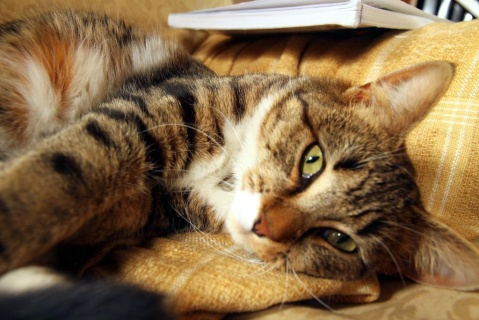Cat: (0, 1, 479, 319)
